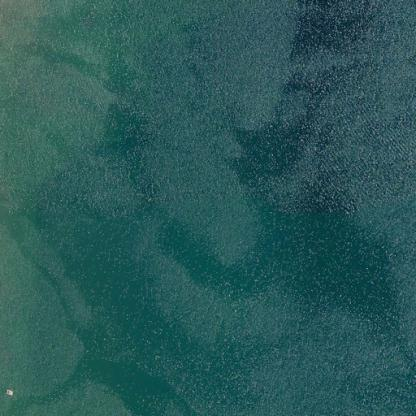ship: (2, 380, 16, 403)
